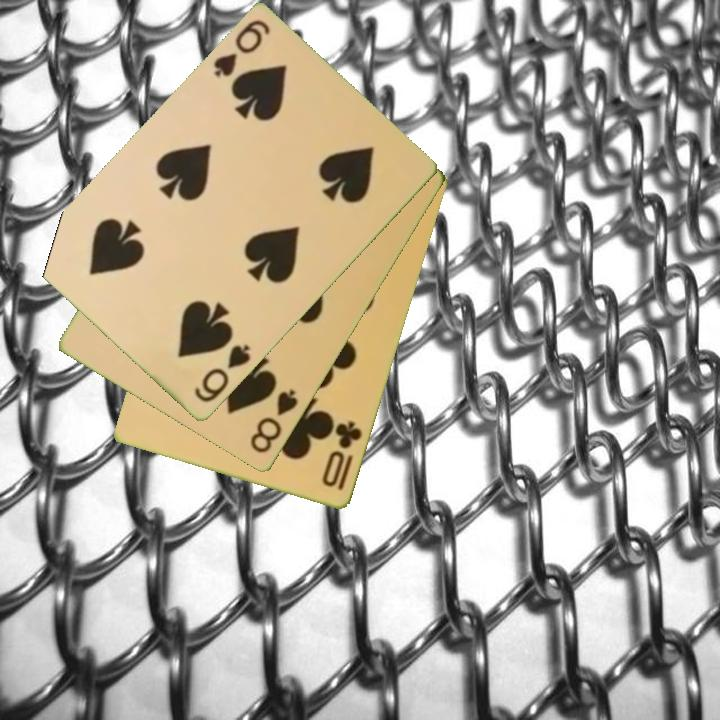10c: (319, 418, 365, 494)
6s: (191, 341, 254, 406), (210, 17, 273, 81)
8s: (246, 386, 301, 457)
